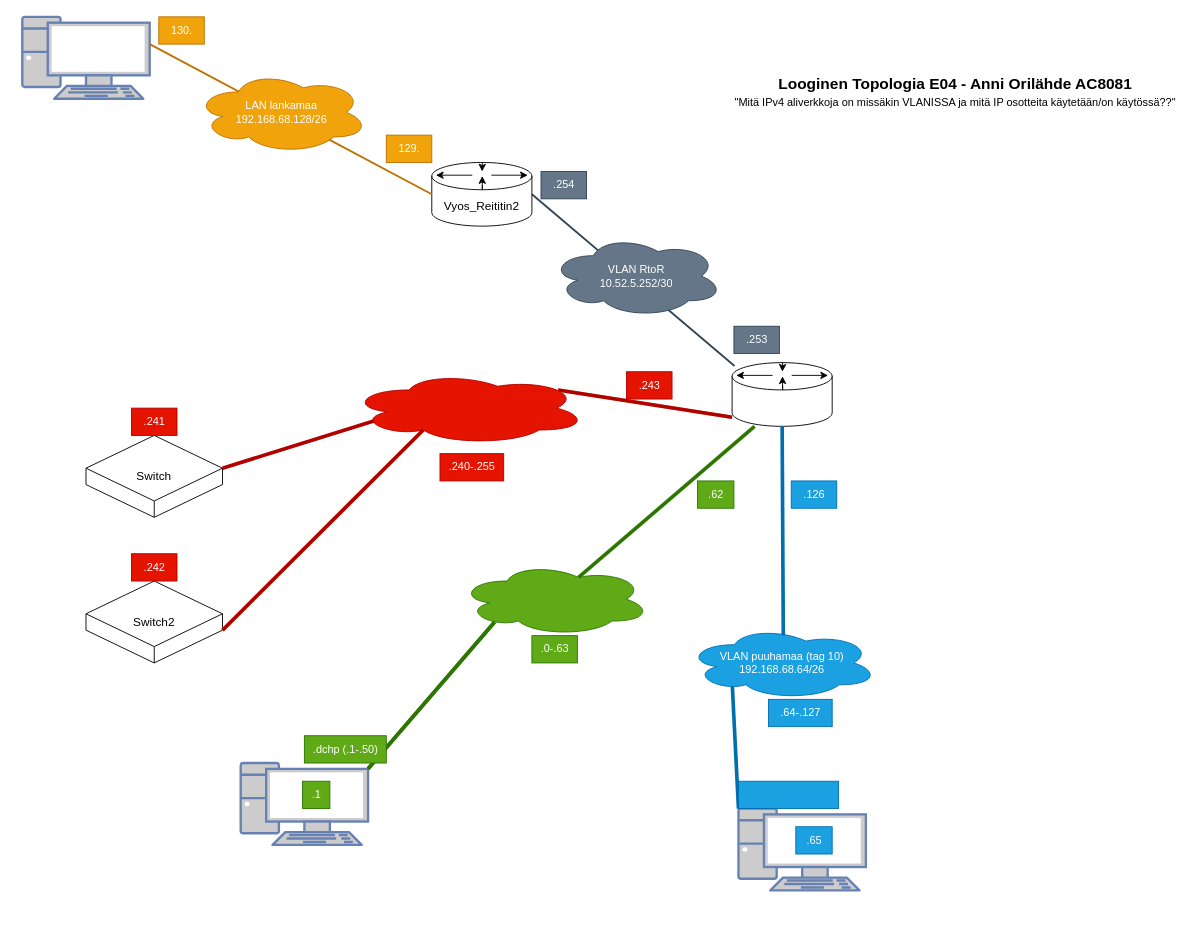
This 1203x930 diagram has some shape labels left out. The shapes that lost their labels are listed below. From the top down, each one's box as (x1, y1, x2, y2) in pixels, then its label:
(21, 15, 150, 99): Lubuntu-tietoverkot3
(349, 371, 586, 445): VLAN network_devices (tag 4090) 10.52.5.240/28
(731, 362, 832, 426): Vyos_Reititin1
(458, 562, 650, 636): VLAN workstations (tag 5) 192.168.68.0/26
(239, 762, 369, 845): Lubuntu-tietoverkot
(738, 780, 839, 809): .dchp (.65-.105)
(737, 807, 866, 891): Lubuntu-tietoverkot2
